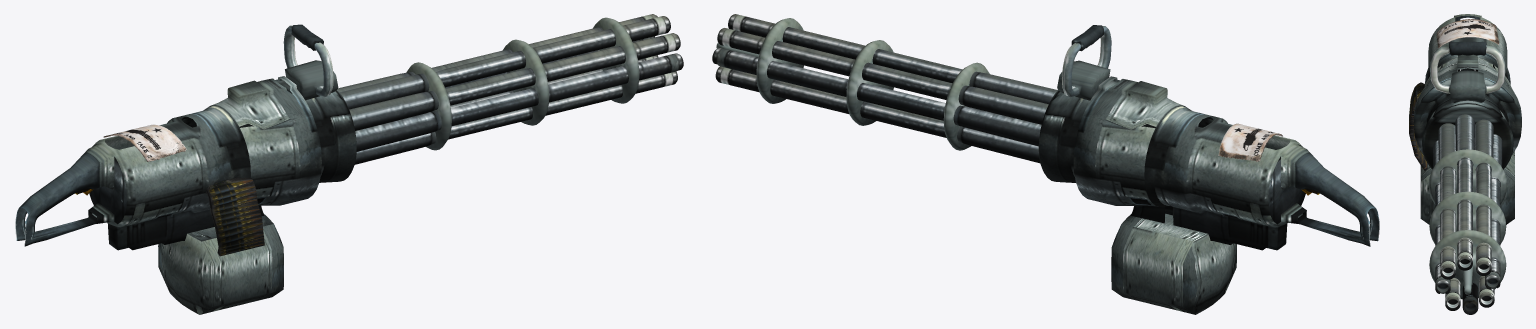
File: minigun.obj
The picture shows the model from 3 angles, left to right: view 1: azimuth 30°, elevation 25°; view 2: azimuth 150°, elevation 25°; view 3: azimuth 270°, elevation 25°; orthographic projection. The views are drawn at different scales.
Visible parts, largest first — view 1: minigun_Cube; view 2: minigun_Cube; view 3: minigun_Cube.
Part boxes in pixels (left/top/right/bottom): minigun_Cube: left=15, top=14, right=683, bottom=314; minigun_Cube: left=712, top=14, right=1379, bottom=314; minigun_Cube: left=1409, top=14, right=1521, bottom=314.
Size of the model in its own units: 4.95 by 1.74 by 0.8404.
